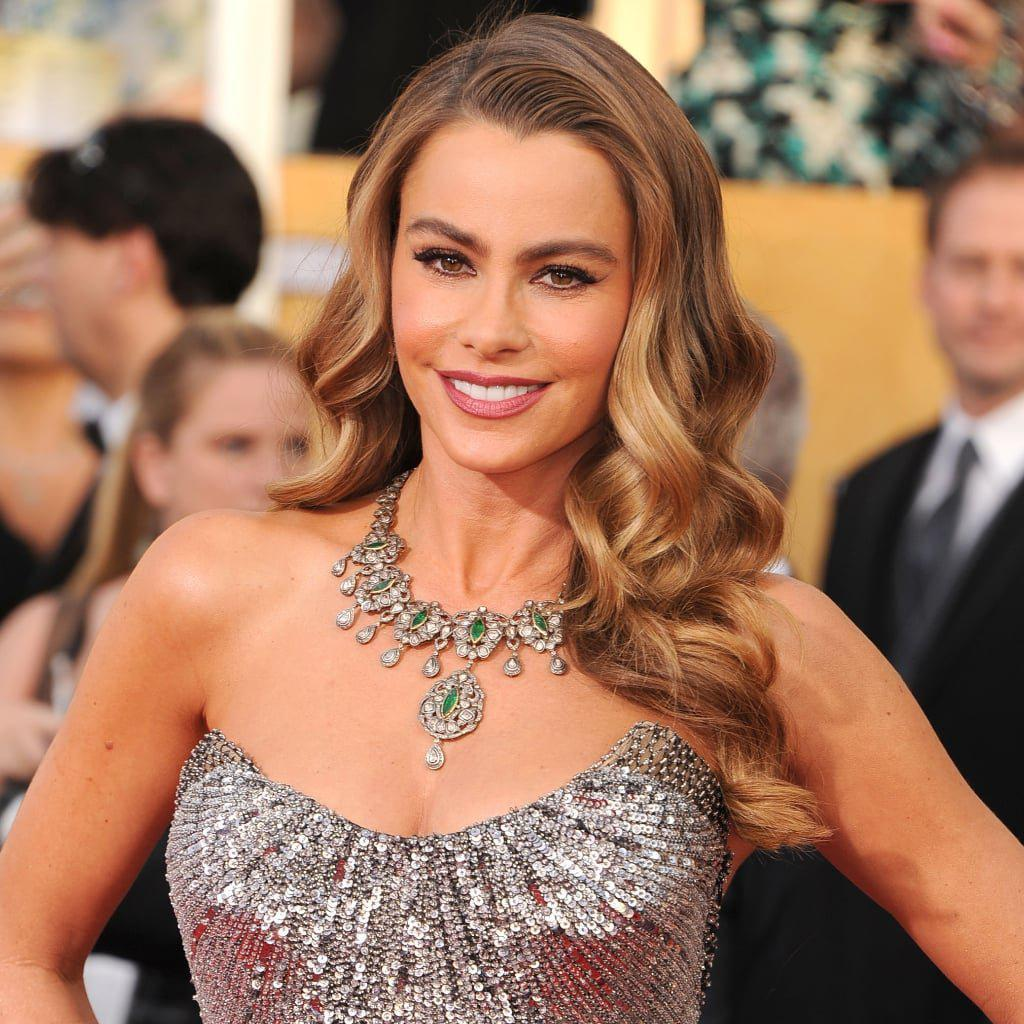Sober: (395, 158, 620, 446)
